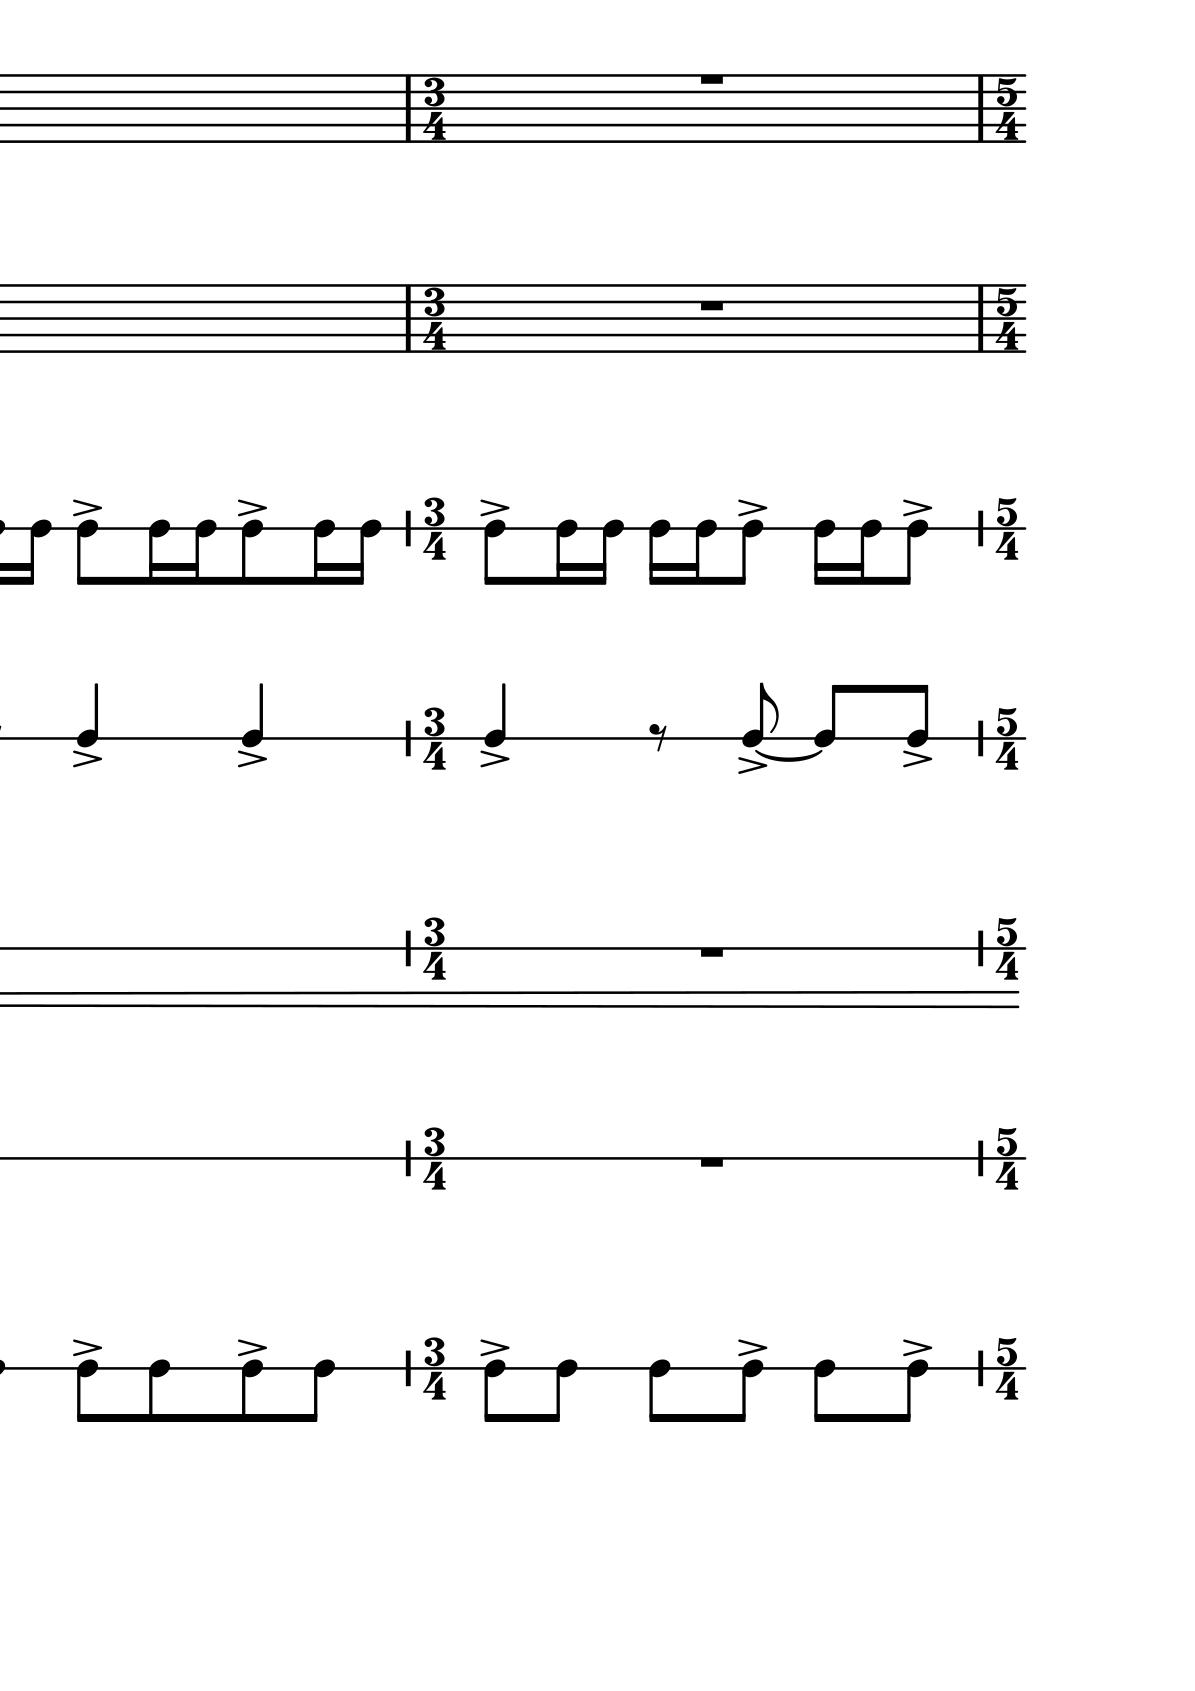16_4: (185, 517, 216, 588), (352, 517, 382, 588), (689, 518, 719, 590), (855, 517, 885, 588), (23, 517, 53, 588), (595, 518, 625, 588), (647, 517, 671, 588), (312, 518, 336, 588), (147, 518, 171, 588), (812, 518, 835, 588), (554, 518, 577, 587)
3: (420, 72, 447, 109), (420, 283, 447, 318), (420, 705, 447, 737), (422, 1126, 449, 1158), (422, 495, 447, 527), (422, 915, 447, 948), (422, 1335, 447, 1368)
4: (993, 107, 1027, 142), (995, 317, 1026, 352), (995, 1156, 1023, 1193), (420, 317, 450, 352), (995, 527, 1024, 562), (995, 1367, 1024, 1401), (420, 739, 451, 772), (420, 109, 450, 142), (422, 949, 451, 983), (422, 1158, 451, 1192), (995, 737, 1023, 772), (422, 1369, 451, 1401), (995, 948, 1022, 983), (422, 529, 447, 561)
4_4: (241, 680, 264, 745), (485, 681, 508, 746), (78, 683, 100, 749)
5: (993, 283, 1023, 318), (993, 72, 1022, 109), (993, 1123, 1022, 1160), (995, 493, 1022, 527), (993, 705, 1020, 738), (993, 914, 1020, 948), (993, 1335, 1020, 1369)
8_4: (742, 683, 781, 749), (812, 683, 848, 749), (735, 516, 766, 587), (899, 516, 929, 587), (548, 1356, 578, 1426), (735, 1356, 764, 1426), (900, 1357, 930, 1426), (307, 1357, 335, 1425), (74, 515, 100, 588), (74, 1354, 98, 1426), (482, 515, 506, 588), (482, 1352, 506, 1426), (239, 517, 263, 590), (647, 1356, 671, 1425), (239, 1357, 264, 1425), (146, 1357, 169, 1425), (812, 1357, 835, 1425), (909, 683, 929, 747)
Accent_above: (69, 494, 103, 518), (69, 1335, 103, 1360), (735, 1335, 770, 1359), (899, 1335, 934, 1357), (477, 495, 510, 518), (736, 495, 768, 518), (235, 1335, 268, 1359), (476, 1335, 510, 1357), (476, 749, 511, 769), (735, 755, 770, 776), (234, 496, 266, 518), (900, 496, 932, 518), (234, 749, 268, 769), (899, 749, 932, 769), (69, 749, 103, 768)
Rests1: (694, 944, 728, 964), (696, 296, 727, 315), (694, 1154, 727, 1173), (696, 70, 727, 88)
Rests8: (647, 721, 669, 752)
Single_barline: (397, 75, 422, 142), (397, 284, 422, 352), (971, 76, 995, 141), (971, 283, 991, 352)
Slur: (757, 749, 826, 761)
TimeSig: (995, 74, 1023, 144), (422, 74, 449, 144), (422, 284, 449, 354), (995, 284, 1022, 354), (995, 705, 1020, 774), (422, 496, 447, 564), (995, 495, 1020, 562), (422, 1127, 447, 1195), (995, 1126, 1020, 1193), (995, 917, 1020, 983), (995, 1337, 1020, 1403), (423, 917, 447, 985), (423, 708, 447, 776), (422, 1369, 449, 1412)
